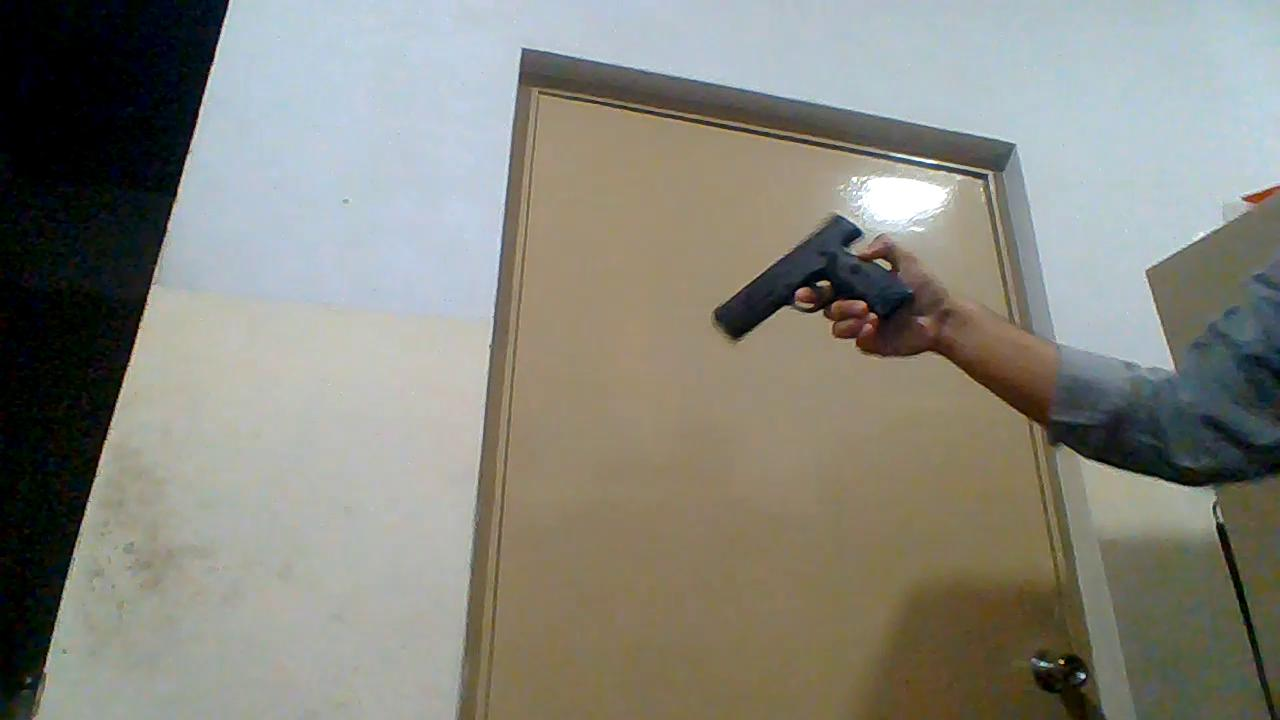weapon: (714, 213, 916, 344)
